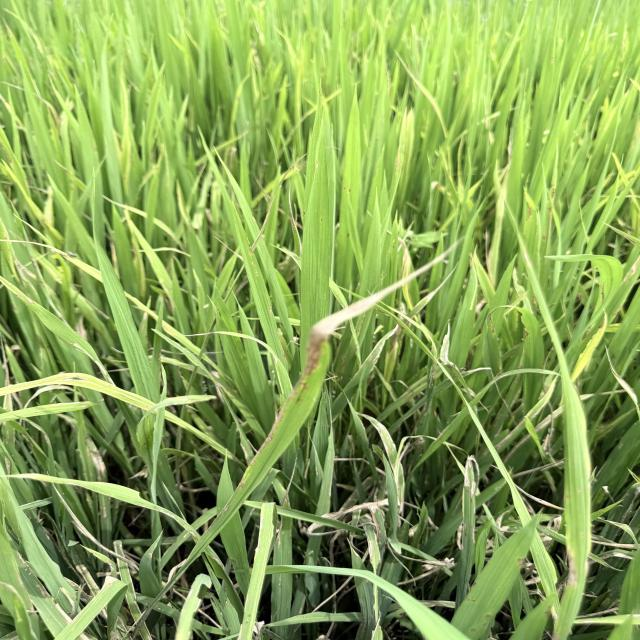Chay bia la: (249, 241, 462, 465)
